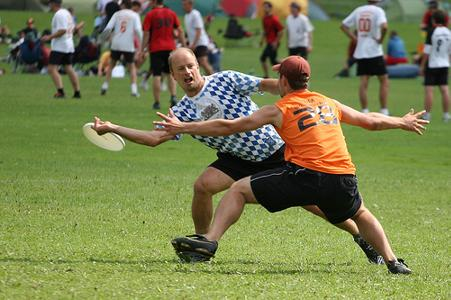person: (90, 49, 386, 266)
